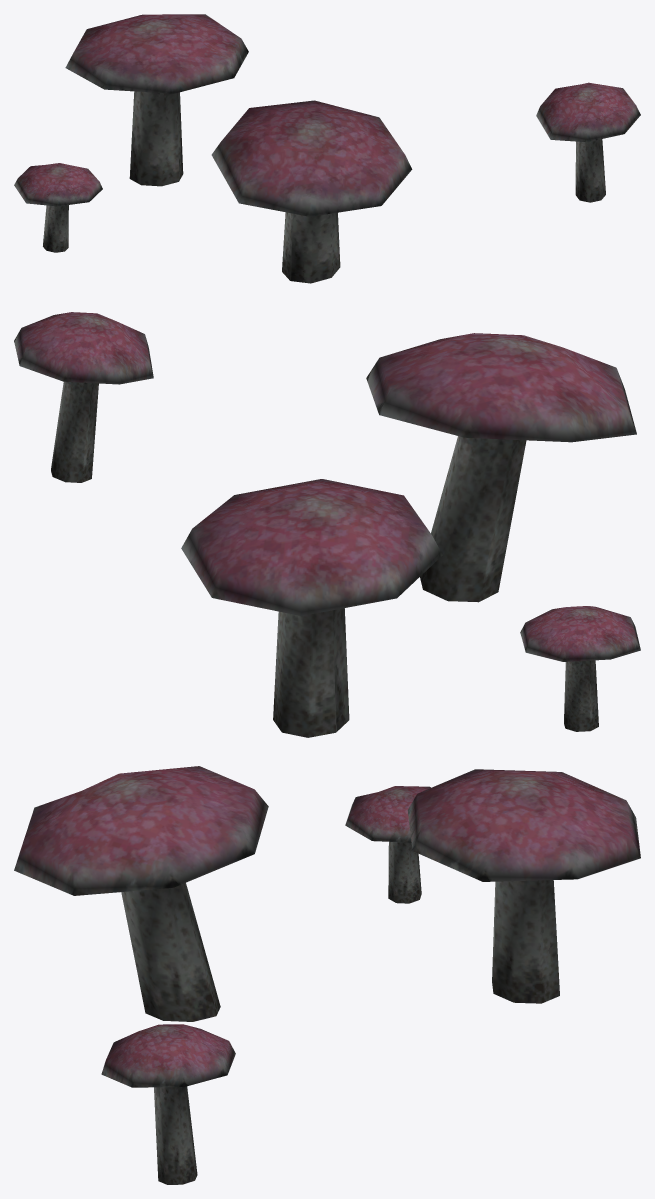
Rendered from Mushrooms_B.fbx.
The picture shows the model from 3 angles, top to bottom: view 1: azimuth 30°, elevation 25°; view 2: azimuth 150°, elevation 25°; view 3: azimuth 270°, elevation 25°; orthographic projection. The views are drawn at different scales.
Visible parts, largest first — view 1: Mushrooms_B; view 2: Mushrooms_B; view 3: Mushrooms_B.
Boxes of the visible parts, x1,y1,x2,y2 form: Mushrooms_B: (14,14,640,283); Mushrooms_B: (14,312,640,737); Mushrooms_B: (14,766,640,1184).
Size of the model in its own units: 32.8 by 9.89 by 25.78.
